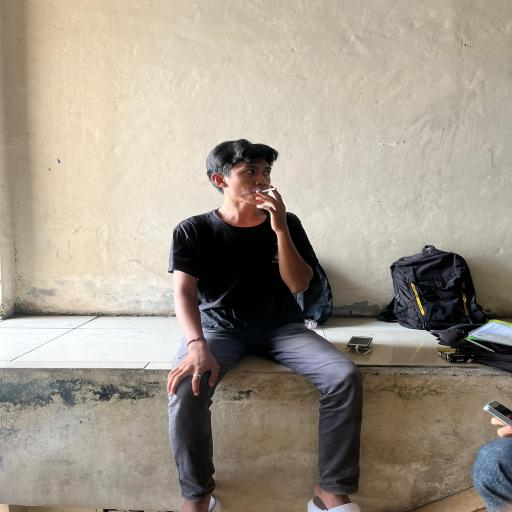merokok: (230, 171, 294, 230)
